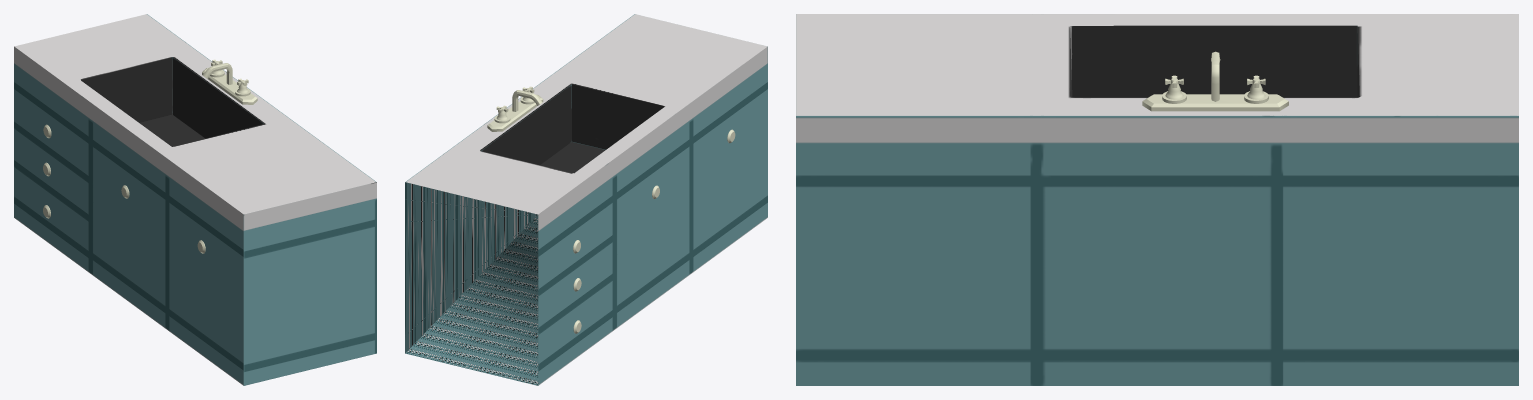
Rendered from Dai.fbx.
3 renders of one model, left to right at view 1: azimuth 30°, elevation 25°; view 2: azimuth 150°, elevation 25°; view 3: azimuth 270°, elevation 25°, orthographic. The views are drawn at different scales.
Visible parts, largest first — view 1: Dai3, polySurface147; view 2: Dai3, polySurface147; view 3: Dai3, polySurface147.
Part boxes in pixels (bbox=[...]): Dai3: bbox=[14, 14, 376, 385]; polySurface147: bbox=[202, 63, 257, 104]; Dai3: bbox=[405, 14, 767, 385]; polySurface147: bbox=[487, 90, 543, 131]; Dai3: bbox=[796, 14, 1518, 385]; polySurface147: bbox=[1142, 51, 1288, 111].
Size of the model in its own units: 326 by 445 by 942.
